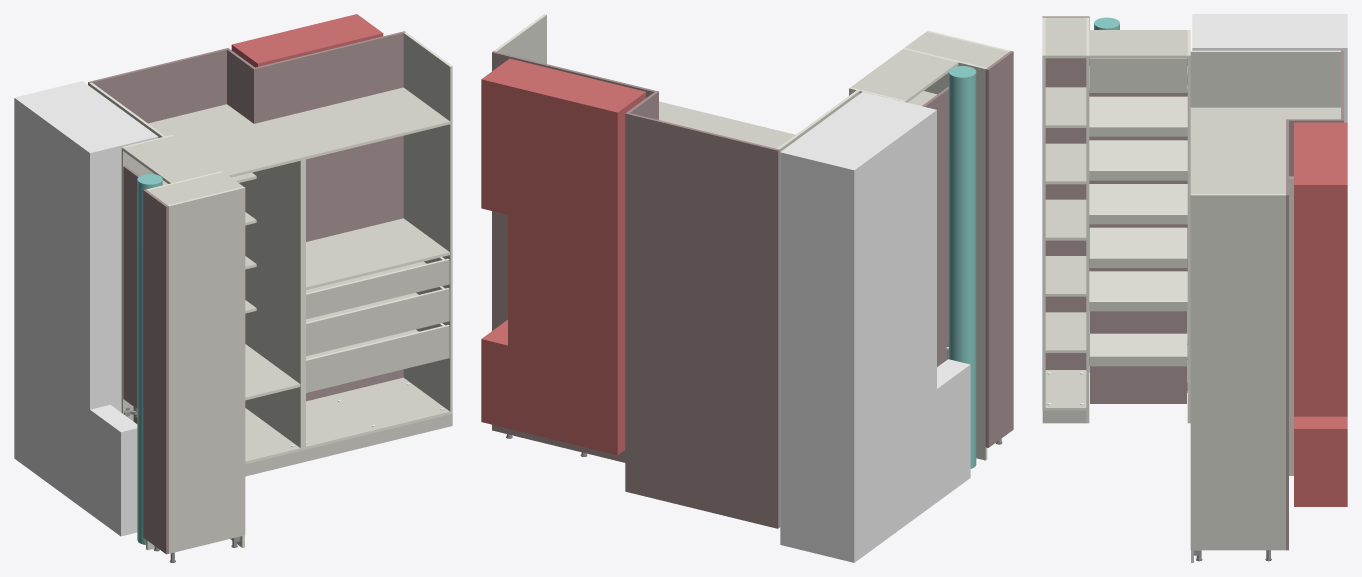
The model's file is Dressing room.glb.
3 renders of one model, left to right at view 1: azimuth 30°, elevation 25°; view 2: azimuth 150°, elevation 25°; view 3: azimuth 270°, elevation 25°, orthographic. The views are drawn at different scales.
Visible parts, largest first — view 1: Dressing room.006, Dressing room, Dressing room.146, Dressing room.120, Dressing room.109, Dressing room.099, Dressing room.002, Dressing room.119, Dressing room.230, Dressing room.001, Dressing room.054, Dressing room.235 (+2 smaller); view 2: Dressing room, Dressing room.006, Dressing room.002, Dressing room.146, Dressing room.001, Dressing room.230, Dressing room.235; view 3: Dressing room.006, Dressing room.002, Dressing room.146, Dressing room, Dressing room.123, Dressing room.234, Dressing room.183, Dressing room.145, Dressing room.182, Dressing room.198, Dressing room.206, Dressing room.235 (+15 smaller).
Boxes of the visible parts, x1,y1,x2,y2 form: Dressing room.006: [88, 31, 452, 464]; Dressing room: [14, 81, 158, 536]; Dressing room.146: [143, 171, 245, 554]; Dressing room.120: [306, 218, 449, 289]; Dressing room.109: [306, 288, 449, 355]; Dressing room.099: [306, 325, 449, 392]; Dressing room.002: [231, 14, 383, 67]; Dressing room.119: [306, 258, 449, 319]; Dressing room.230: [123, 165, 139, 408]; Dressing room.001: [137, 174, 162, 544]; Dressing room.054: [245, 414, 452, 476]; Dressing room.235: [123, 136, 221, 183]; Dressing room: [780, 92, 970, 562]; Dressing room.006: [492, 14, 859, 528]; Dressing room.002: [481, 58, 645, 455]; Dressing room.146: [903, 30, 1013, 460]; Dressing room.001: [948, 66, 976, 468]; Dressing room.230: [922, 86, 948, 350]; Dressing room.235: [851, 49, 958, 102]; Dressing room.006: [1190, 50, 1343, 550]; Dressing room.002: [1294, 122, 1347, 506]; Dressing room.146: [1042, 16, 1089, 423]; Dressing room: [1187, 14, 1347, 392]; Dressing room.123: [1090, 311, 1186, 403]; Dressing room.234: [1089, 58, 1187, 92]; Dressing room.183: [1089, 227, 1187, 257]; Dressing room.145: [1089, 184, 1187, 213]; Dressing room.182: [1089, 271, 1187, 300]; Dressing room.198: [1089, 96, 1187, 125]; Dressing room.206: [1089, 140, 1187, 169]; Dressing room.235: [1089, 30, 1187, 58].
Bounding box in the file's own units: 2.48 × 2.36 × 1.77.
